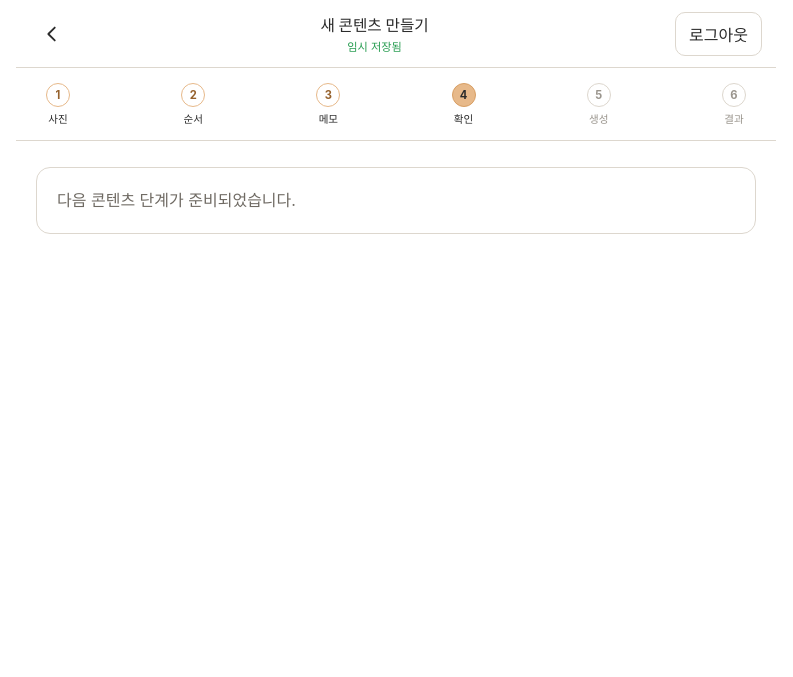
Scenario: studio photo flow › moves to a completed prior stage but leaves future stages non-navigable
This screenshot has width=793, height=677.
Click the button with aria-label "3단계 메모로 이동".
click(328, 104)  # box [306, 82, 350, 126]
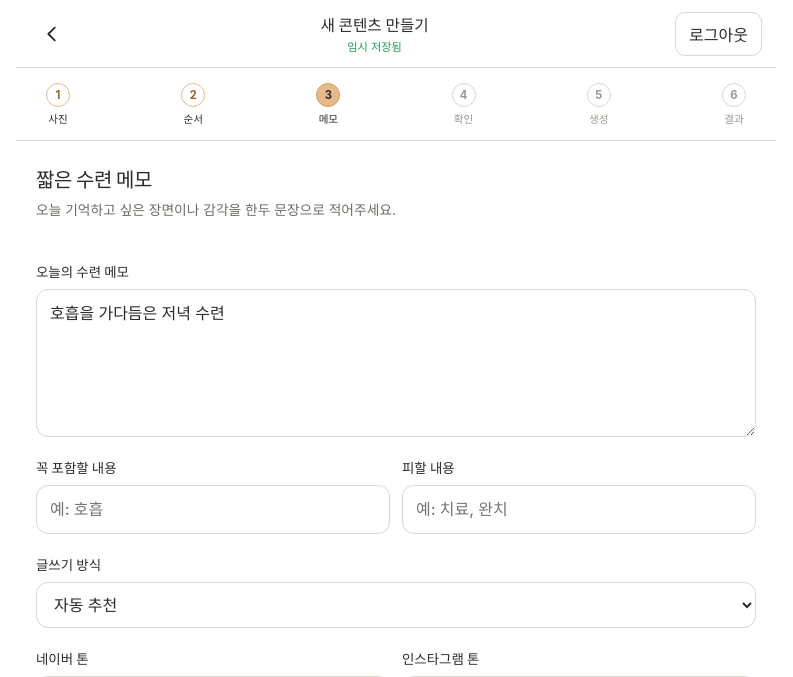
Check: the text box labelled "오늘의 수련 메모" is shown, box [36, 289, 756, 437]
